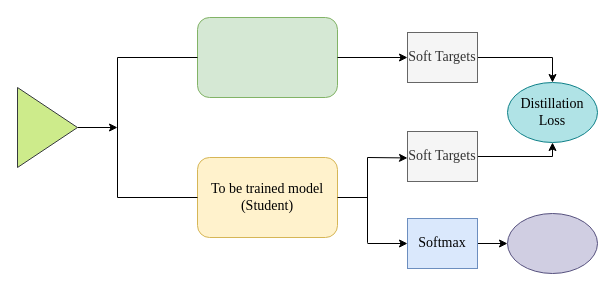
This 615x291 diagram has some shape labels left out. Here are the shapes that lost their labels. From the top down, the centre of each, then its label:
the point at 267,57: Pre-trained model (Teacher)
the point at 47,127: Data
the point at 552,243: Student Loss
